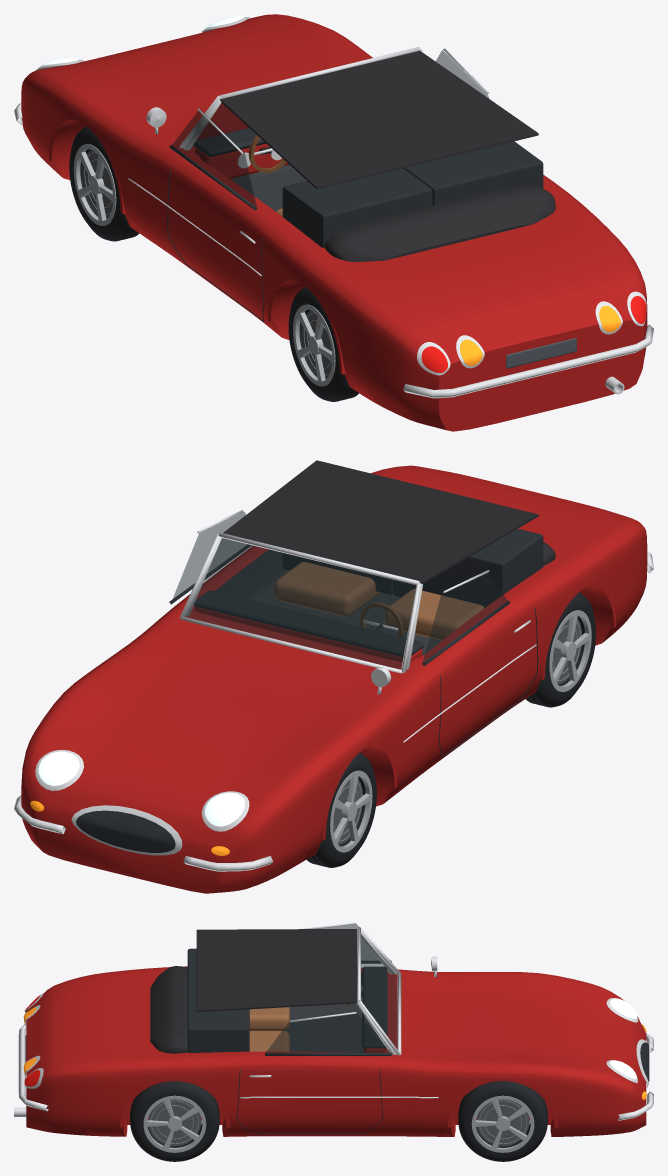
Rendered from rome-roadster.glb.
3 views of the same model, one above another, from view 1: azimuth 30°, elevation 25°; view 2: azimuth 150°, elevation 25°; view 3: azimuth 270°, elevation 25° (orthographic). The views are drawn at different scales.
Parts seen in each view (by area): view 1: Body geometry, Running wheel geometry.002, Running wheel geometry; view 2: Body geometry, Running wheel geometry, Running wheel geometry.002; view 3: Body geometry, Running wheel geometry.001, Running wheel geometry.003.
Boxes of the visible parts, x1,y1,x2,y2 form: Body geometry: [14, 14, 653, 431]; Running wheel geometry.002: [288, 286, 358, 401]; Running wheel geometry: [69, 126, 139, 241]; Body geometry: [14, 460, 653, 893]; Running wheel geometry: [306, 752, 376, 867]; Running wheel geometry.002: [526, 592, 595, 707]; Body geometry: [14, 922, 653, 1136]; Running wheel geometry.001: [458, 1081, 547, 1161]; Running wheel geometry.003: [130, 1081, 219, 1161].
Size of the model in its own units: 1.15 by 0.8222 by 3.07.
